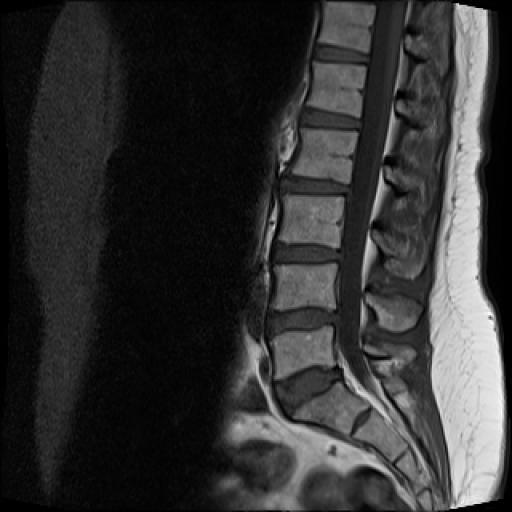L1: (306, 61, 366, 116)
L2: (292, 128, 358, 184)
L3: (280, 196, 342, 248)
L4: (273, 266, 338, 310)
L5: (272, 326, 335, 378)
S1: (292, 381, 369, 434)
